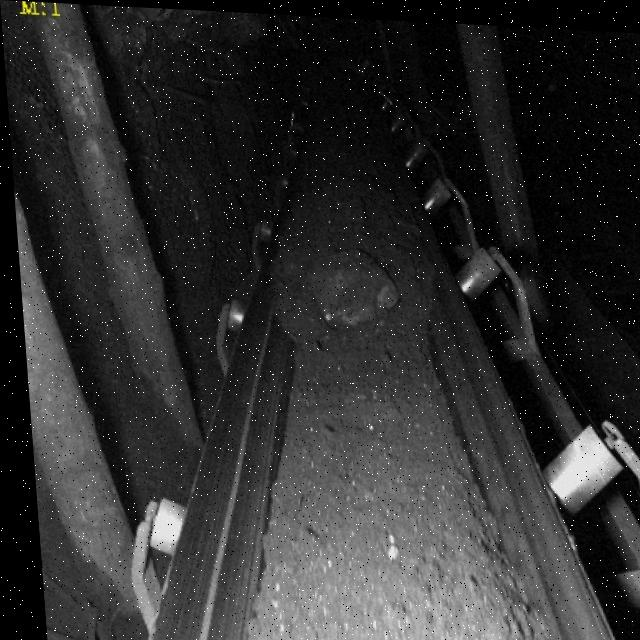large_sized_coal: (308, 249, 396, 326)
